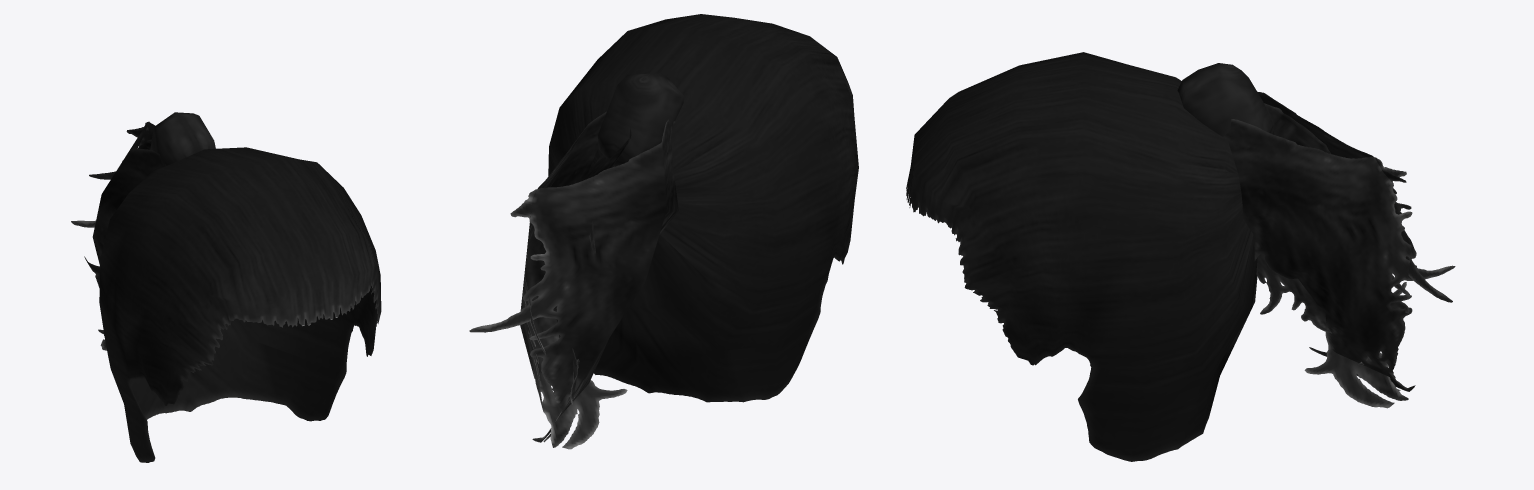
Rendered from hair_002.fbx.
3 renders of one model, left to right at view 1: azimuth 30°, elevation 25°; view 2: azimuth 150°, elevation 25°; view 3: azimuth 270°, elevation 25°, orthographic. The views are drawn at different scales.
Parts seen in each view (by area): view 1: hair_002; view 2: hair_002; view 3: hair_002.
Part boxes in pixels (left/top/right/bottom): hair_002: left=71, top=112, right=381, bottom=462; hair_002: left=469, top=14, right=858, bottom=449; hair_002: left=906, top=52, right=1455, bottom=461.
Size of the model in its own units: 18.25 by 28.19 by 36.54.
